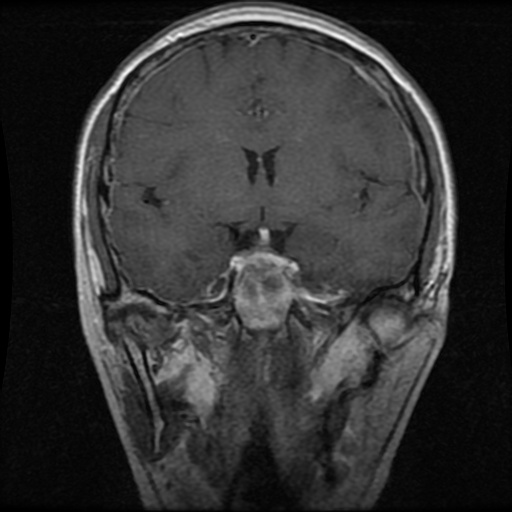pituitary: (230, 245, 302, 280)
